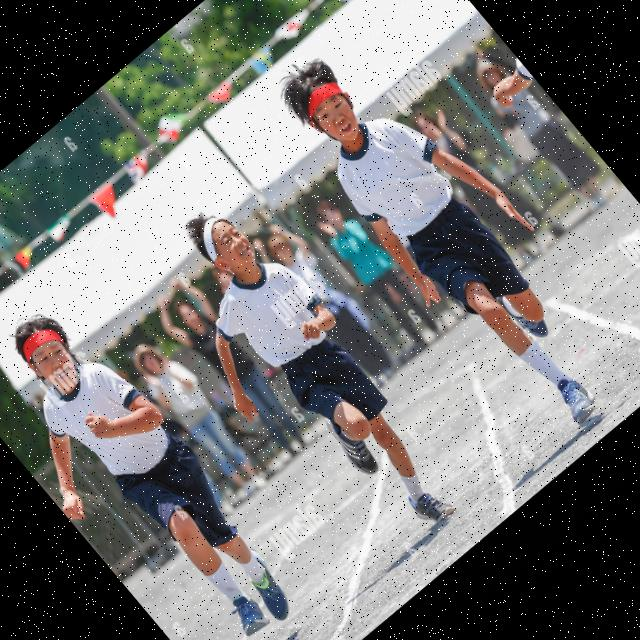Person: (258, 20, 640, 452), (125, 188, 481, 576), (0, 290, 312, 640), (122, 330, 278, 503)
